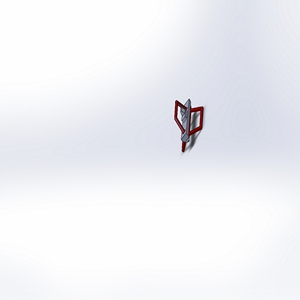submarine: (156, 90, 231, 181)
